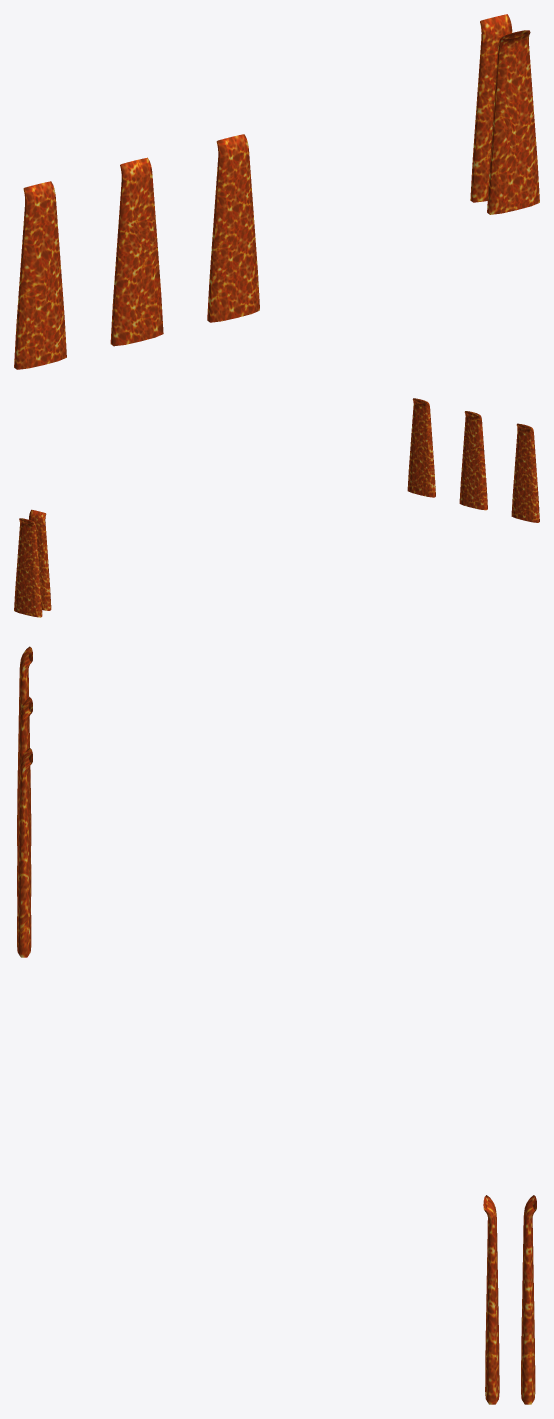
The model's file is LavaFlows.FBX.
3 renders of one model, top to bottom at view 1: azimuth 30°, elevation 25°; view 2: azimuth 150°, elevation 25°; view 3: azimuth 270°, elevation 25°, orthographic. The views are drawn at different scales.
Parts seen in each view (by area): view 1: Lava01, Lava02; view 2: Lava01, Lava02; view 3: Lava02, Lava01.
Part boxes in pixels (left/top/right/bottom): Lava01: left=14, top=134, right=259, bottom=369; Lava02: left=470, top=14, right=539, bottom=214; Lava01: left=407, top=398, right=539, bottom=522; Lava02: left=14, top=509, right=51, bottom=617; Lava02: left=483, top=1195, right=536, bottom=1404; Lava01: left=17, top=646, right=32, bottom=957.
Size of the model in its own units: 76.67 by 34.62 by 43.35.
